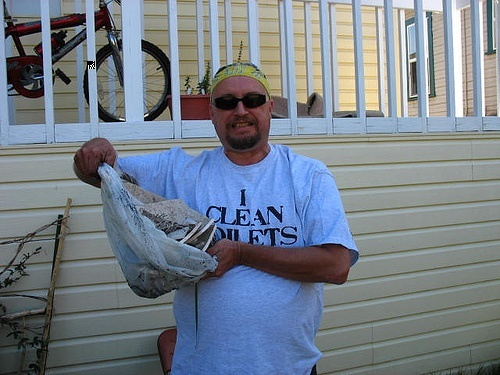car: (1, 1, 174, 122)
person: (73, 64, 360, 375)
person/hand: (74, 137, 116, 190), (206, 238, 241, 280)
person/head: (209, 62, 275, 153)
